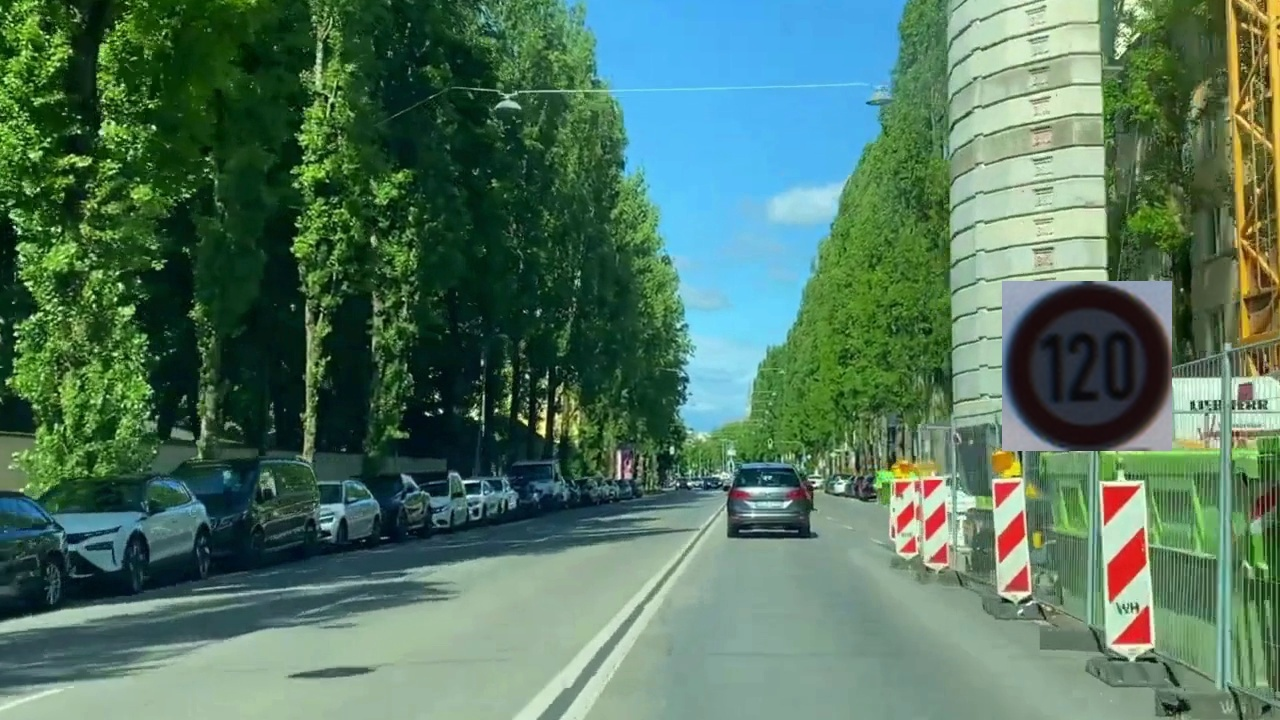Speed 120: (1002, 281, 1172, 451)
